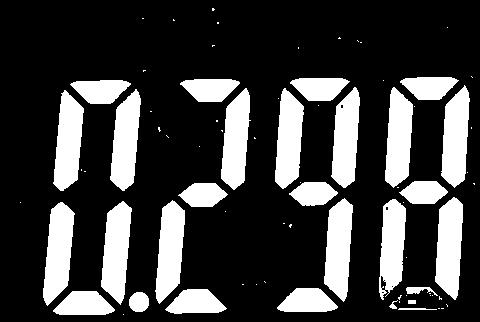0: (40, 78, 145, 315)
2: (154, 74, 253, 315)
8: (376, 75, 468, 312)
9: (271, 75, 360, 315)
dot: (127, 287, 153, 316)
